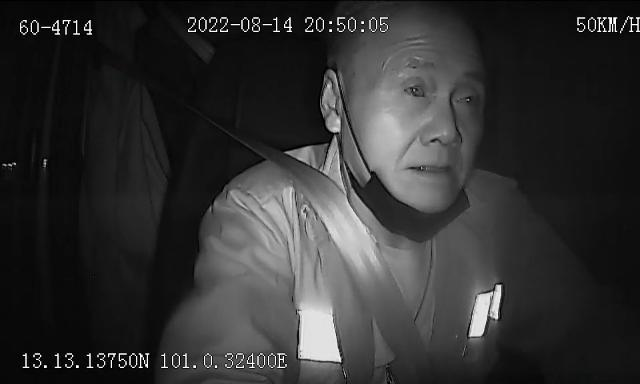SafeDriving: (396, 69, 434, 106), (448, 79, 483, 116)
Seatbelt: (198, 93, 498, 379)
